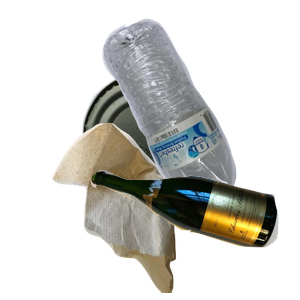glass: (88, 167, 300, 300)
metal: (80, 68, 284, 248)
plastic: (100, 16, 300, 196)
trash: (50, 120, 219, 300)
